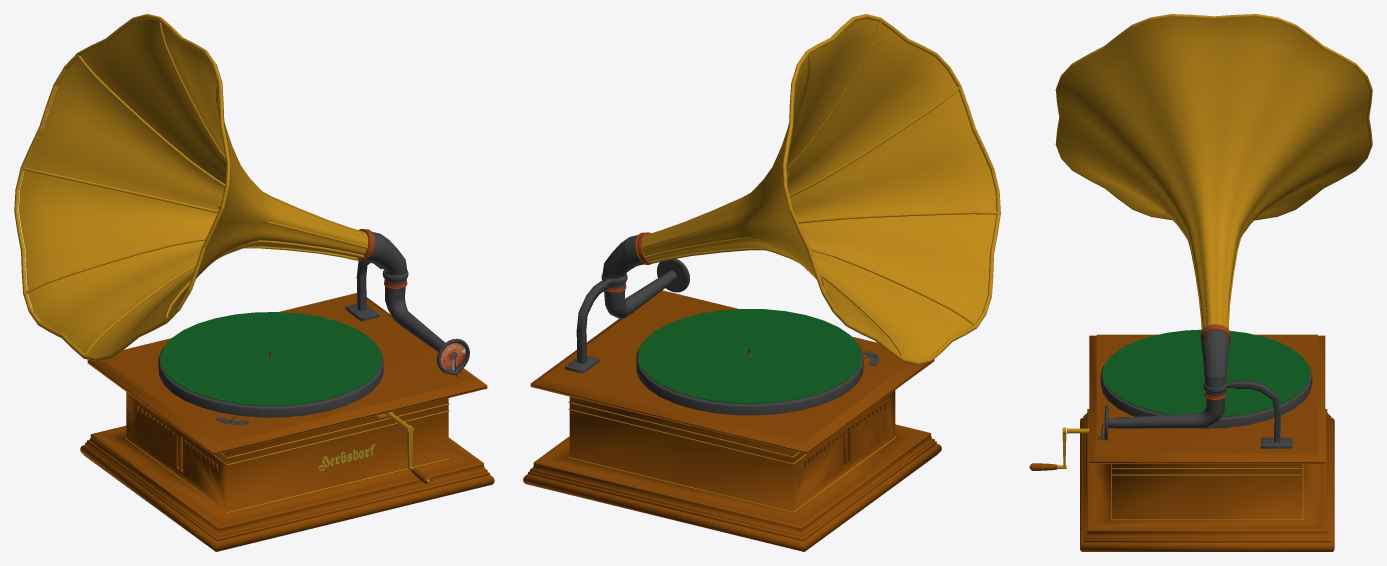
File: gramaphone_fbx.fbx
3 views of the same model, side by side, from view 1: azimuth 30°, elevation 25°; view 2: azimuth 150°, elevation 25°; view 3: azimuth 270°, elevation 25° (orthographic). The views are drawn at different scales.
Visible parts, largest first — view 1: polySurface37, polySurface45, polySurface99, polySurface49, polySurface28, polySurface14, polySurface12, polySurface13, polySurface11, polySurface1, polySurface21, polySurface24 (+2 smaller); view 2: polySurface37, polySurface45, polySurface99, polySurface49, polySurface28, polySurface14, polySurface11, polySurface12, polySurface13, polySurface27, polySurface23, polySurface25 (+2 smaller); view 3: polySurface37, polySurface45, polySurface99, polySurface49, polySurface28, polySurface14, polySurface12, polySurface13, polySurface11, polySurface19.
Part boxes in pixels (bbox=[...]): polySurface37: bbox=[19, 18, 368, 357]; polySurface45: bbox=[80, 293, 494, 551]; polySurface99: bbox=[19, 19, 368, 356]; polySurface49: bbox=[160, 312, 381, 405]; polySurface28: bbox=[14, 14, 230, 361]; polySurface14: bbox=[158, 346, 383, 417]; polySurface12: bbox=[385, 286, 445, 352]; polySurface13: bbox=[366, 232, 406, 284]; polySurface11: bbox=[345, 261, 408, 321]; polySurface1: bbox=[437, 338, 469, 373]; polySurface21: bbox=[84, 246, 359, 354]; polySurface24: bbox=[21, 167, 218, 213]; polySurface37: bbox=[641, 18, 996, 360]; polySurface45: bbox=[523, 290, 941, 551]; polySurface99: bbox=[641, 19, 995, 360]; polySurface49: bbox=[638, 309, 861, 403]; polySurface28: bbox=[782, 14, 1000, 365]; polySurface14: bbox=[636, 343, 863, 415]; polySurface11: bbox=[565, 273, 627, 373]; polySurface12: bbox=[604, 273, 673, 318]; polySurface13: bbox=[602, 235, 643, 288]; polySurface27: bbox=[649, 248, 904, 357]; polySurface23: bbox=[798, 211, 997, 223]; polySurface25: bbox=[789, 87, 959, 196]; polySurface37: bbox=[1057, 17, 1369, 328]; polySurface45: bbox=[1080, 334, 1334, 551]; polySurface99: bbox=[1057, 17, 1369, 327]; polySurface49: bbox=[1102, 329, 1309, 417]; polySurface28: bbox=[1055, 14, 1372, 220]; polySurface14: bbox=[1100, 365, 1312, 428]; polySurface12: bbox=[1115, 397, 1225, 428]; polySurface13: bbox=[1201, 330, 1229, 395]; polySurface11: bbox=[1203, 380, 1292, 448]; polySurface19: bbox=[1111, 469, 1303, 520].
Size of the model in its own units: 6.84 by 8.25 by 5.98.
Materials: 9 (2 with a texture image).
